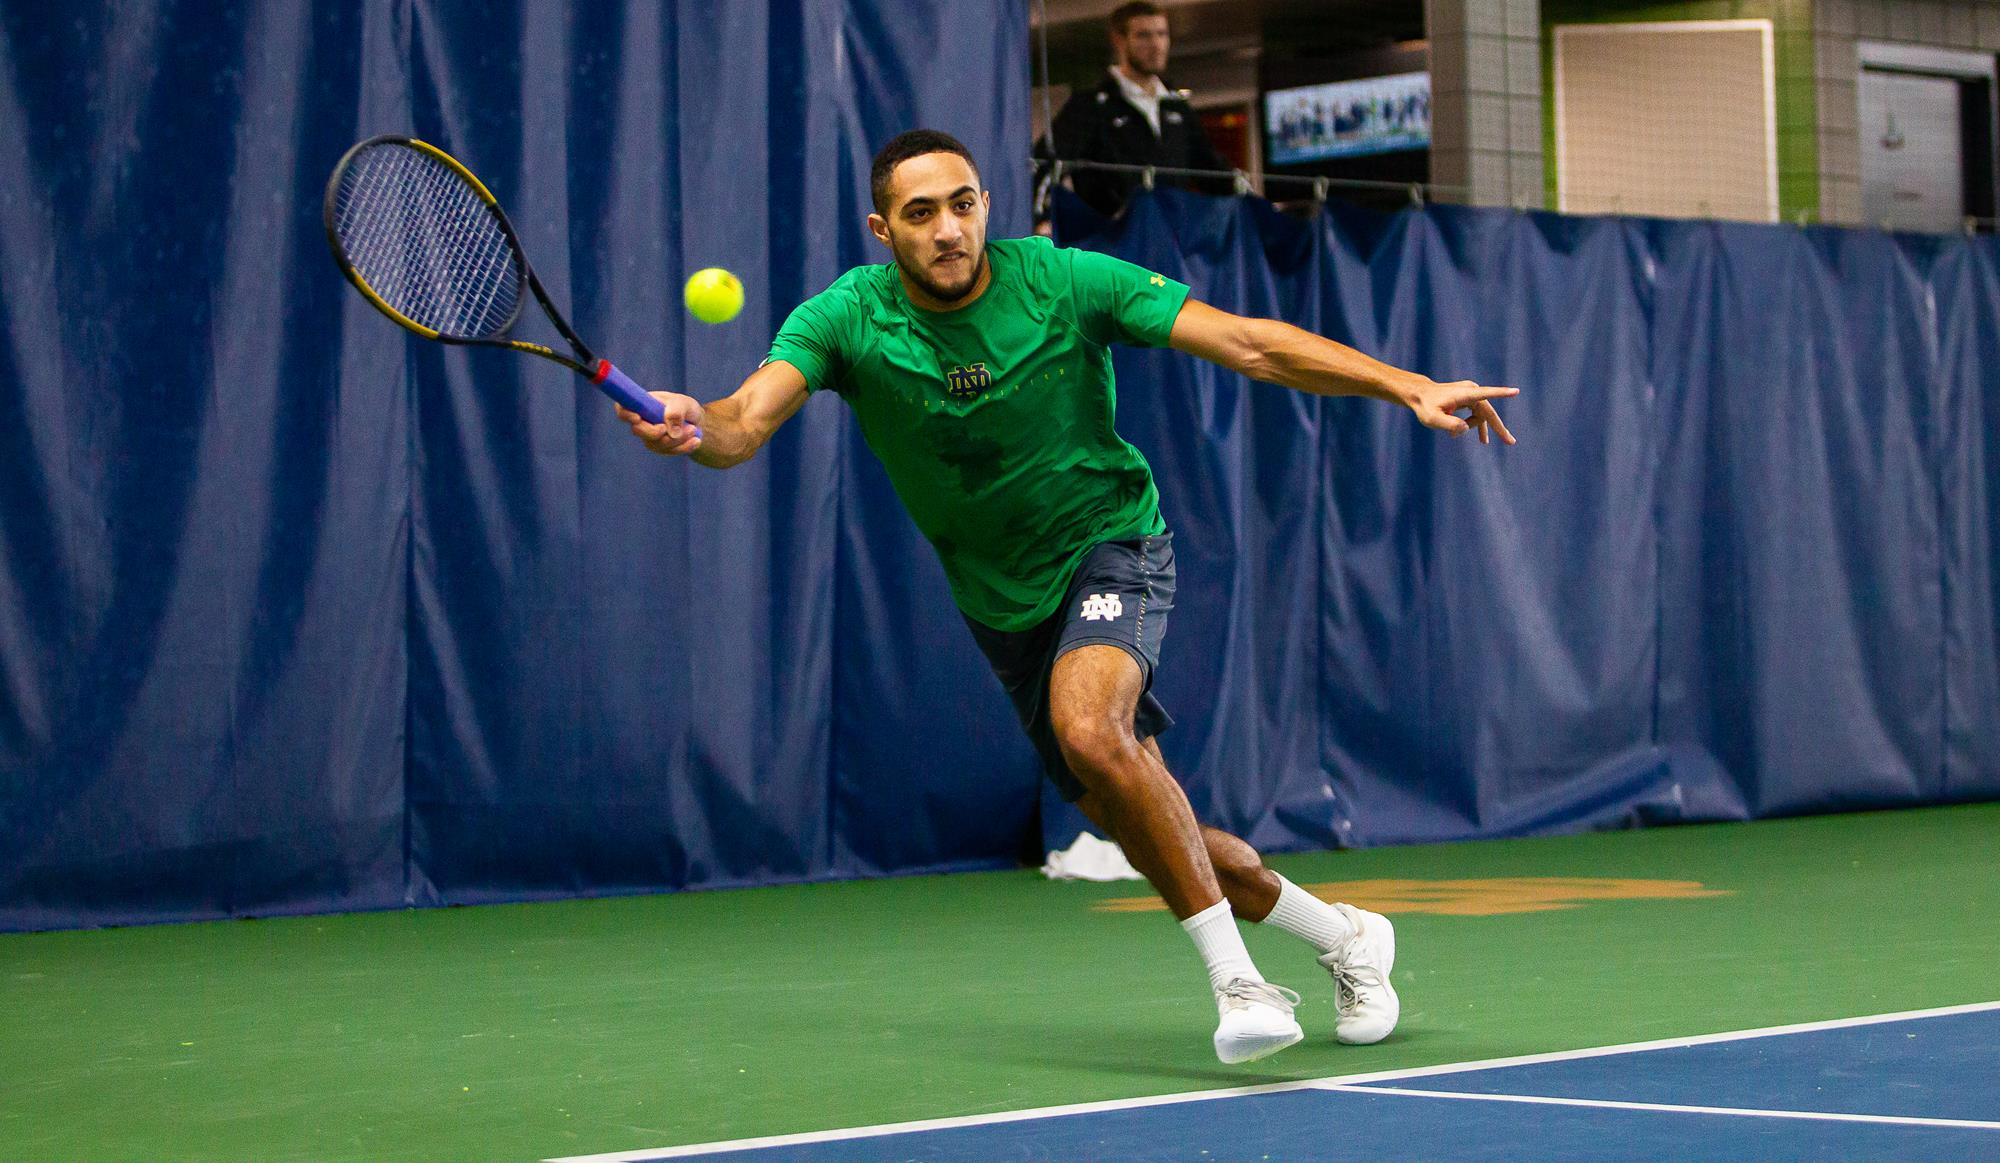tennis_ball: (673, 264, 752, 331)
